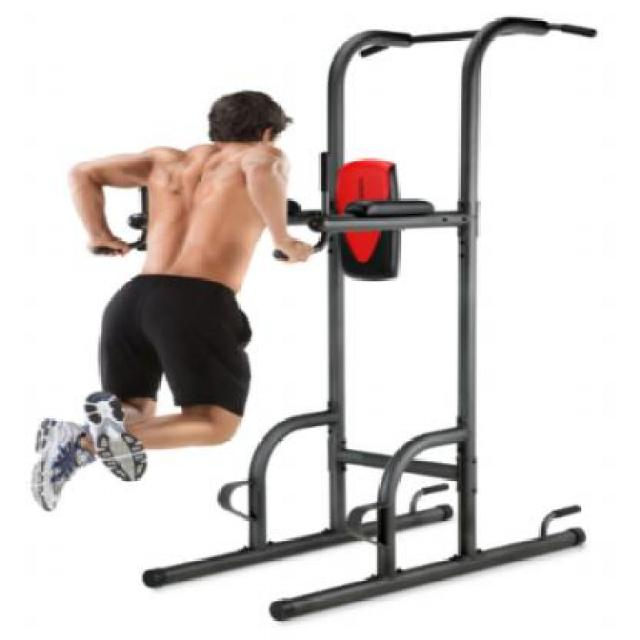chinning dipping: (143, 17, 600, 618)
